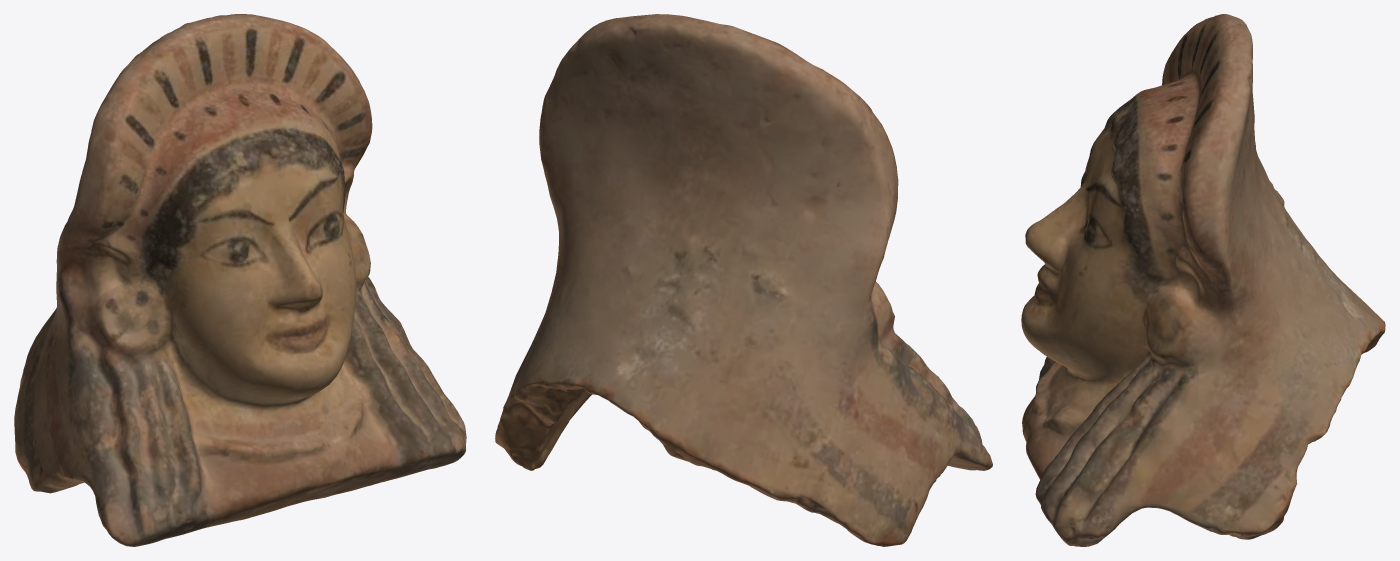
The model's file is cma-etruscan-maiden-antefix.glb.
3 renders of one model, left to right at view 1: azimuth 30°, elevation 25°; view 2: azimuth 150°, elevation 25°; view 3: azimuth 270°, elevation 25°, orthographic. The views are drawn at different scales.
Parts seen in each view (by area): view 1: 2024.56_antefix_in_the_form_of_a_maiden; view 2: 2024.56_antefix_in_the_form_of_a_maiden; view 3: 2024.56_antefix_in_the_form_of_a_maiden.
Part boxes in pixels (<box>): 2024.56_antefix_in_the_form_of_a_maiden: <box>14,14,466,546</box>; 2024.56_antefix_in_the_form_of_a_maiden: <box>495,14,992,546</box>; 2024.56_antefix_in_the_form_of_a_maiden: <box>1021,14,1385,546</box>.
Size of the model in its own units: 0.1962 by 0.219 by 0.1661.
Materials: 1 (1 with a texture image).
